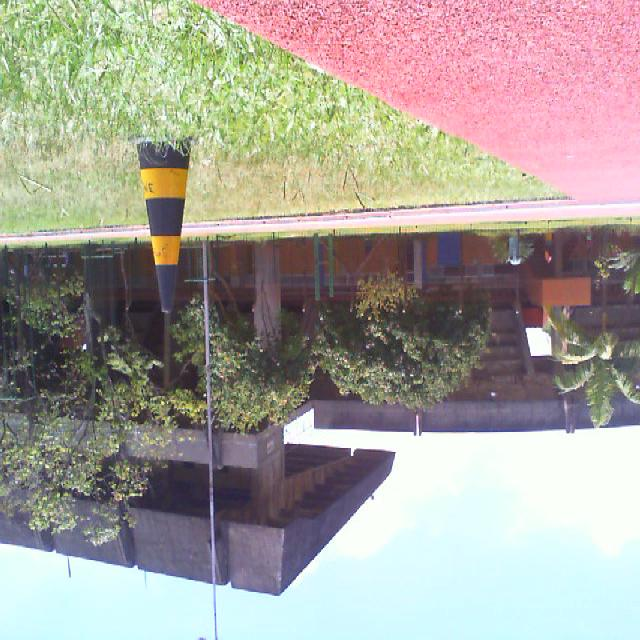cone: (120, 133, 197, 312)
